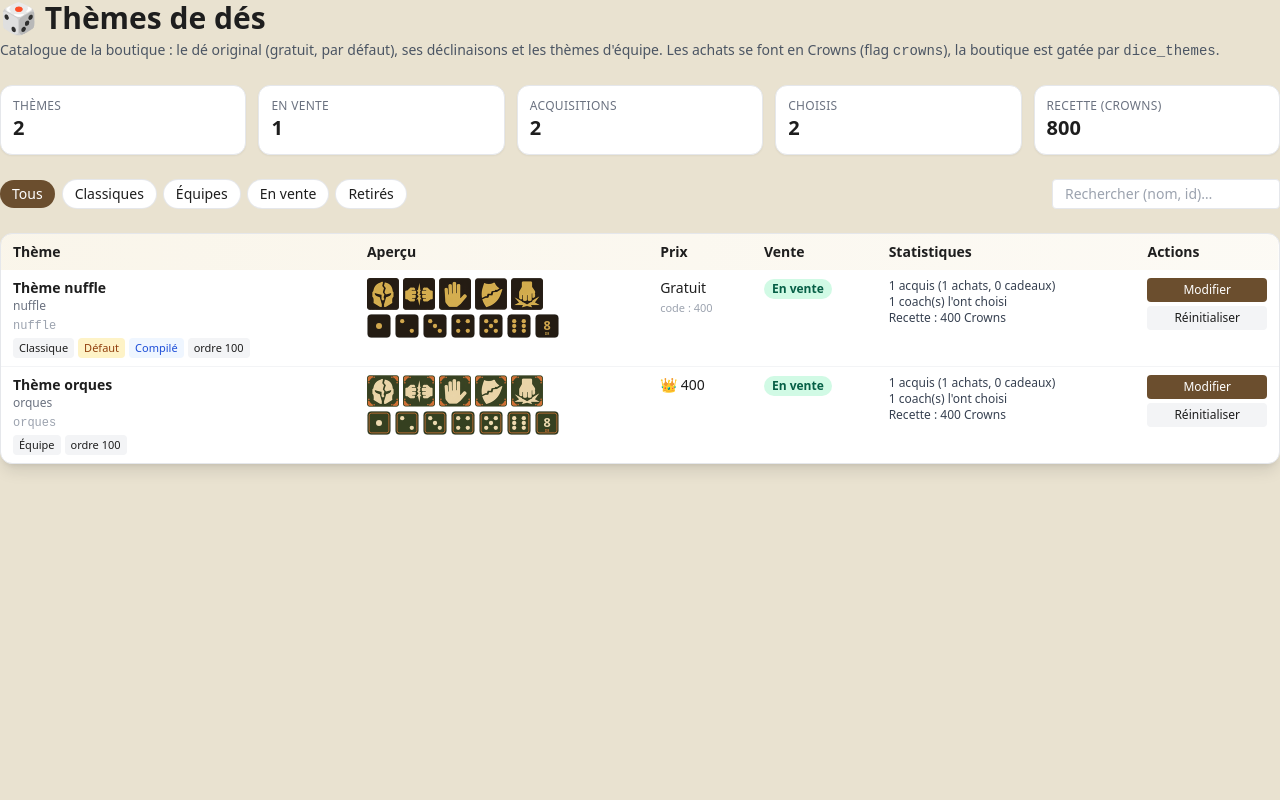
it: AdminDiceThemesPage › prix invalide : enregistrement désactivé
Click the button with test id "admin-dice-edit-orques" at (1207, 387), box [1148, 375, 1267, 399]
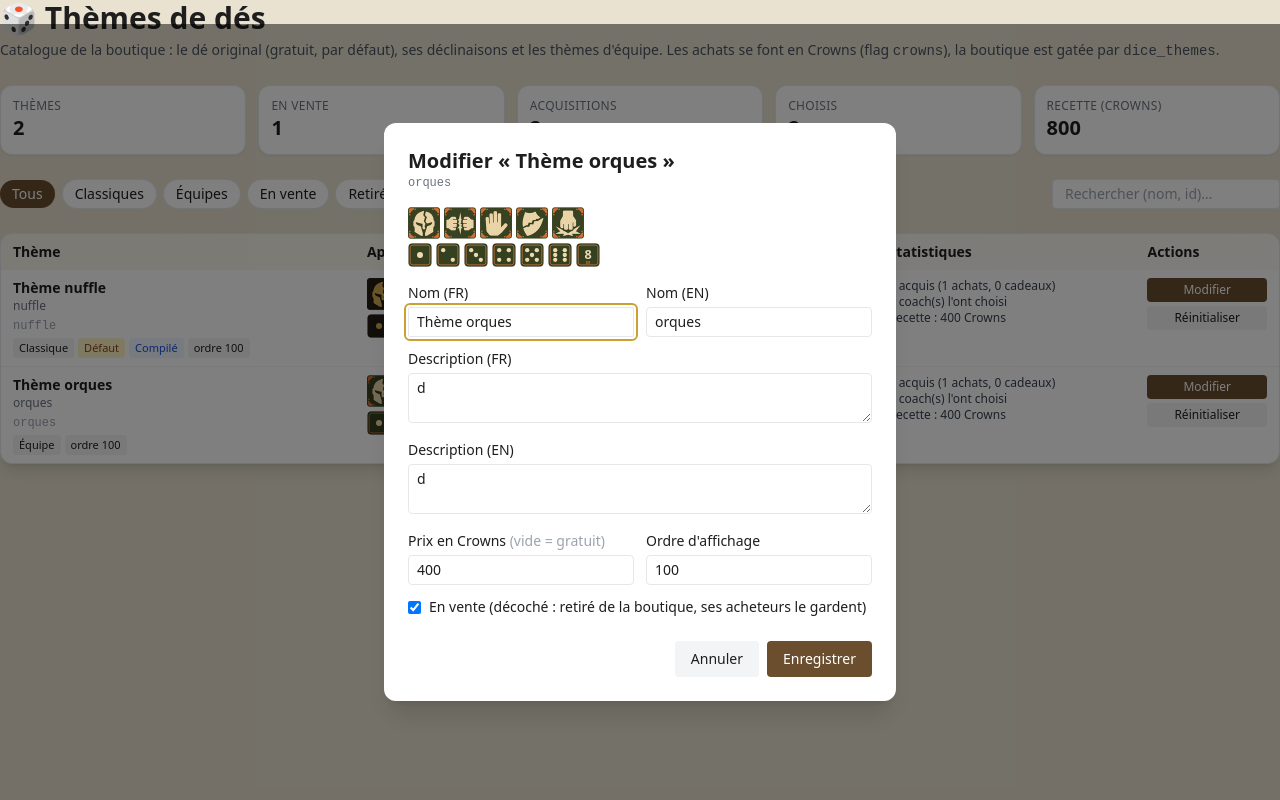
Replace the text in the field with test id "edit-price" with "-3" at (521, 570), box [408, 555, 634, 585]
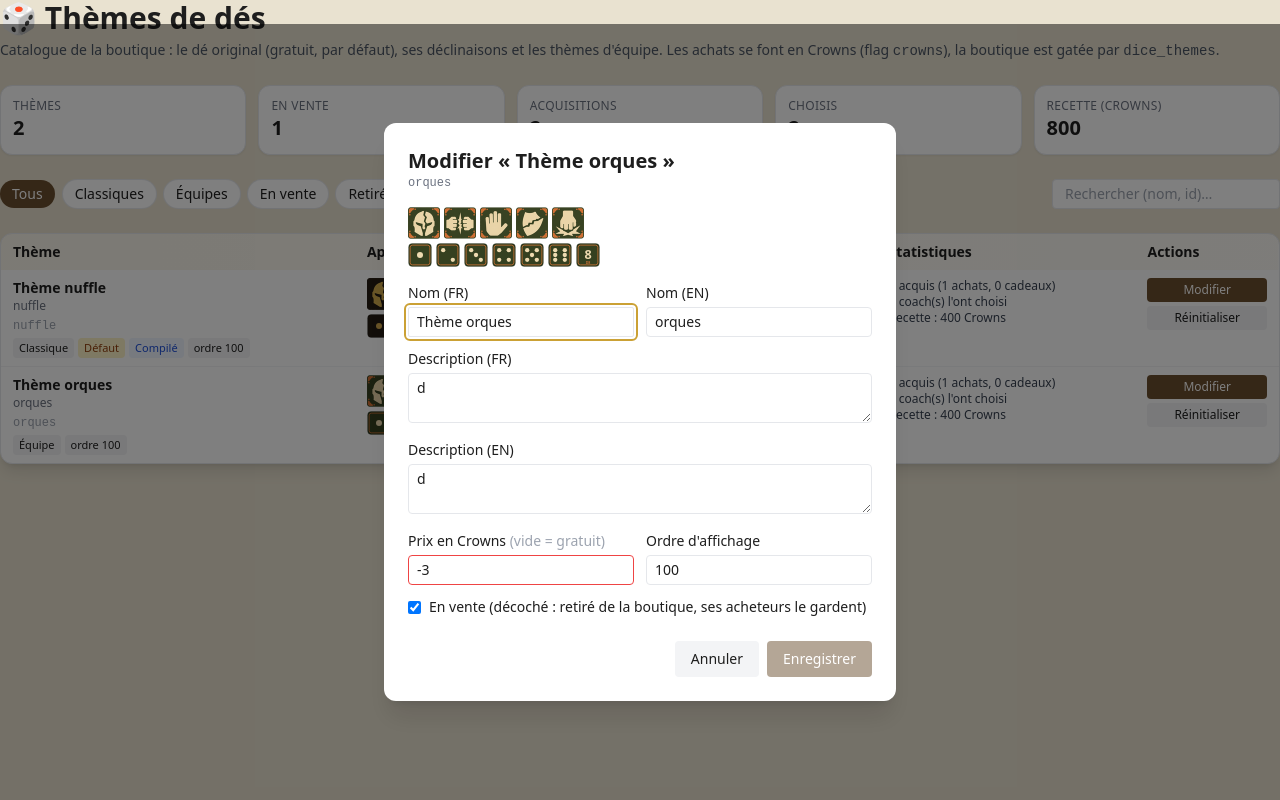
Now the button with test id "edit-save" is disabled, box [767, 641, 872, 677]
